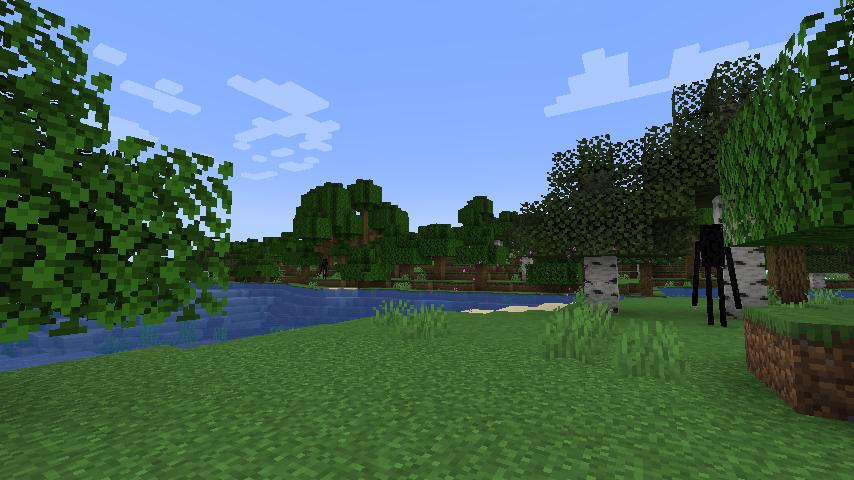enderman: (687, 220, 745, 330), (319, 258, 328, 279)
